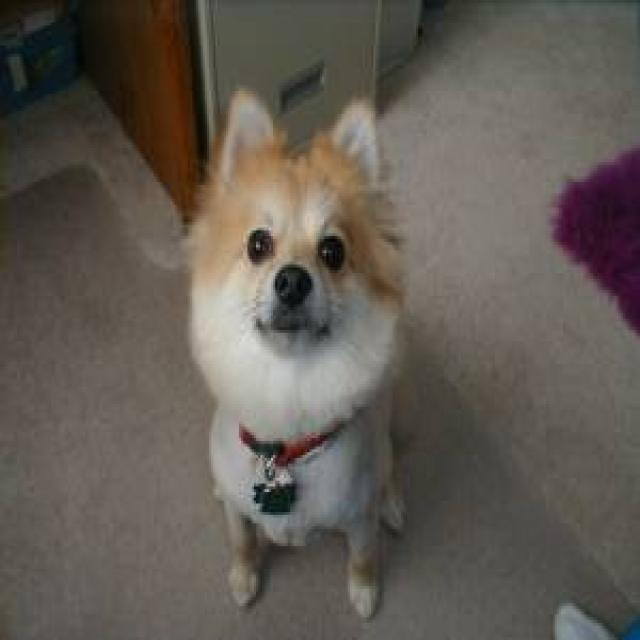dog-pomeranian: (181, 80, 414, 623)
